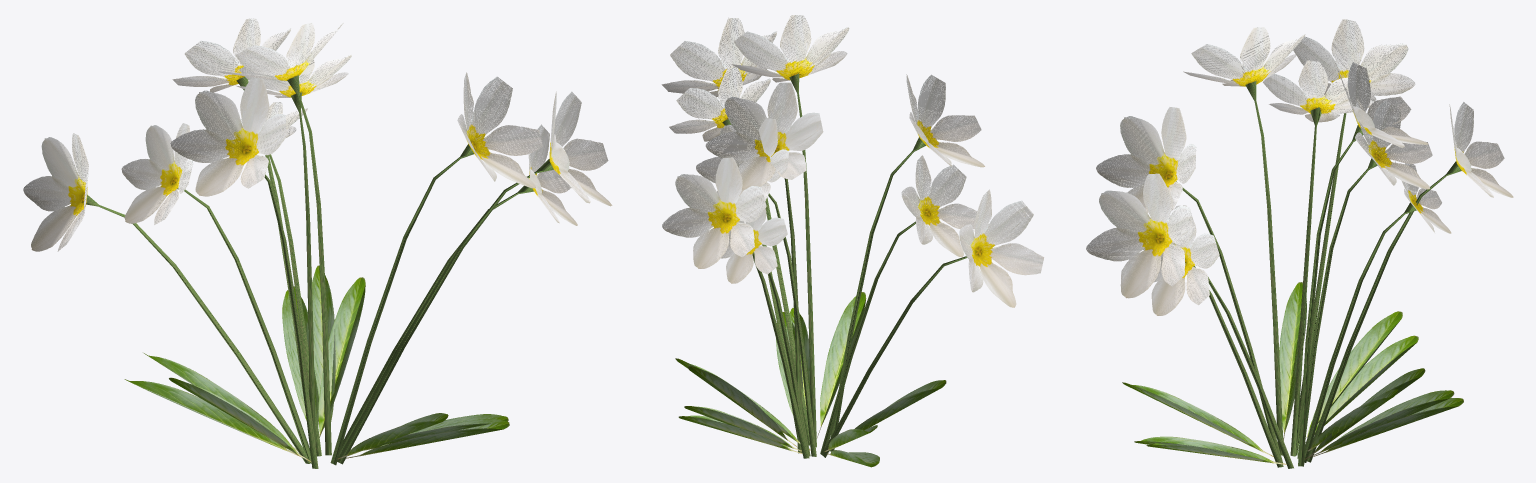
The model's file is flower.fbx.
3 renders of one model, left to right at view 1: azimuth 30°, elevation 25°; view 2: azimuth 150°, elevation 25°; view 3: azimuth 270°, elevation 25°, orthographic. The views are drawn at different scales.
Visible parts, largest first — view 1: Tree_0, Tree_2, Tree_1; view 2: Tree_0, Tree_2, Tree_1; view 3: Tree_0, Tree_2, Tree_1.
Part boxes in pixels (x1=…): Tree_0: x1=23, y1=18, x2=612, y2=251; Tree_2: x1=86, y1=75, x2=553, y2=468; Tree_1: x1=124, y1=265, x2=509, y2=462; Tree_0: x1=661, y1=15, x2=1044, y2=307; Tree_2: x1=722, y1=73, x2=967, y2=458; Tree_1: x1=675, y1=292, x2=946, y2=467; Tree_0: x1=1086, y1=19, x2=1513, y2=315; Tree_2: x1=1176, y1=81, x2=1461, y2=468; Tree_1: x1=1122, y1=282, x2=1463, y2=464.
Bounding box in the file's own units: 101 × 83.95 × 83.91.
3 materials, 3 textured.
